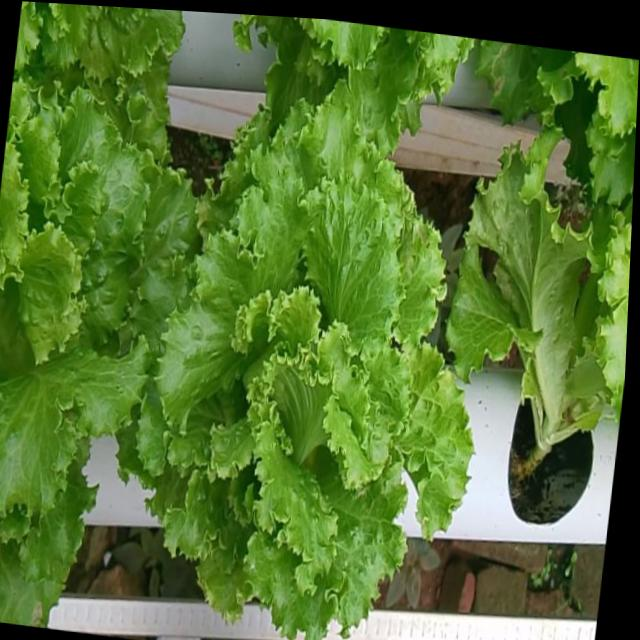Mature: (138, 99, 476, 640), (0, 89, 197, 525)
